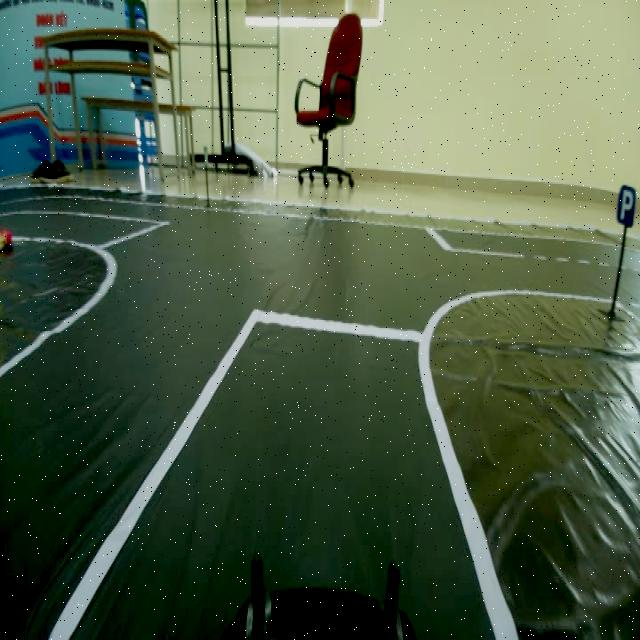parking: (613, 176, 639, 234)
